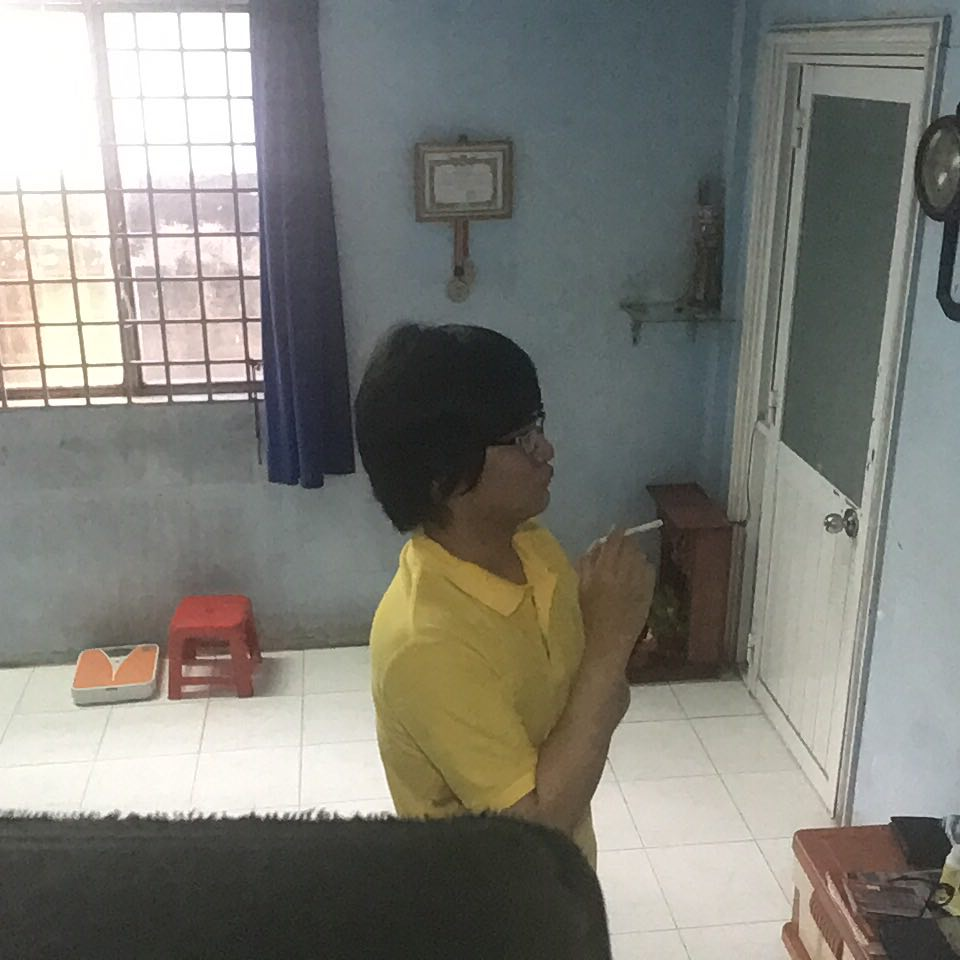cigarette: (623, 512, 671, 543)
person: (348, 319, 676, 910)
